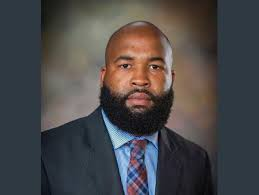s.black: (107, 71, 128, 94)
